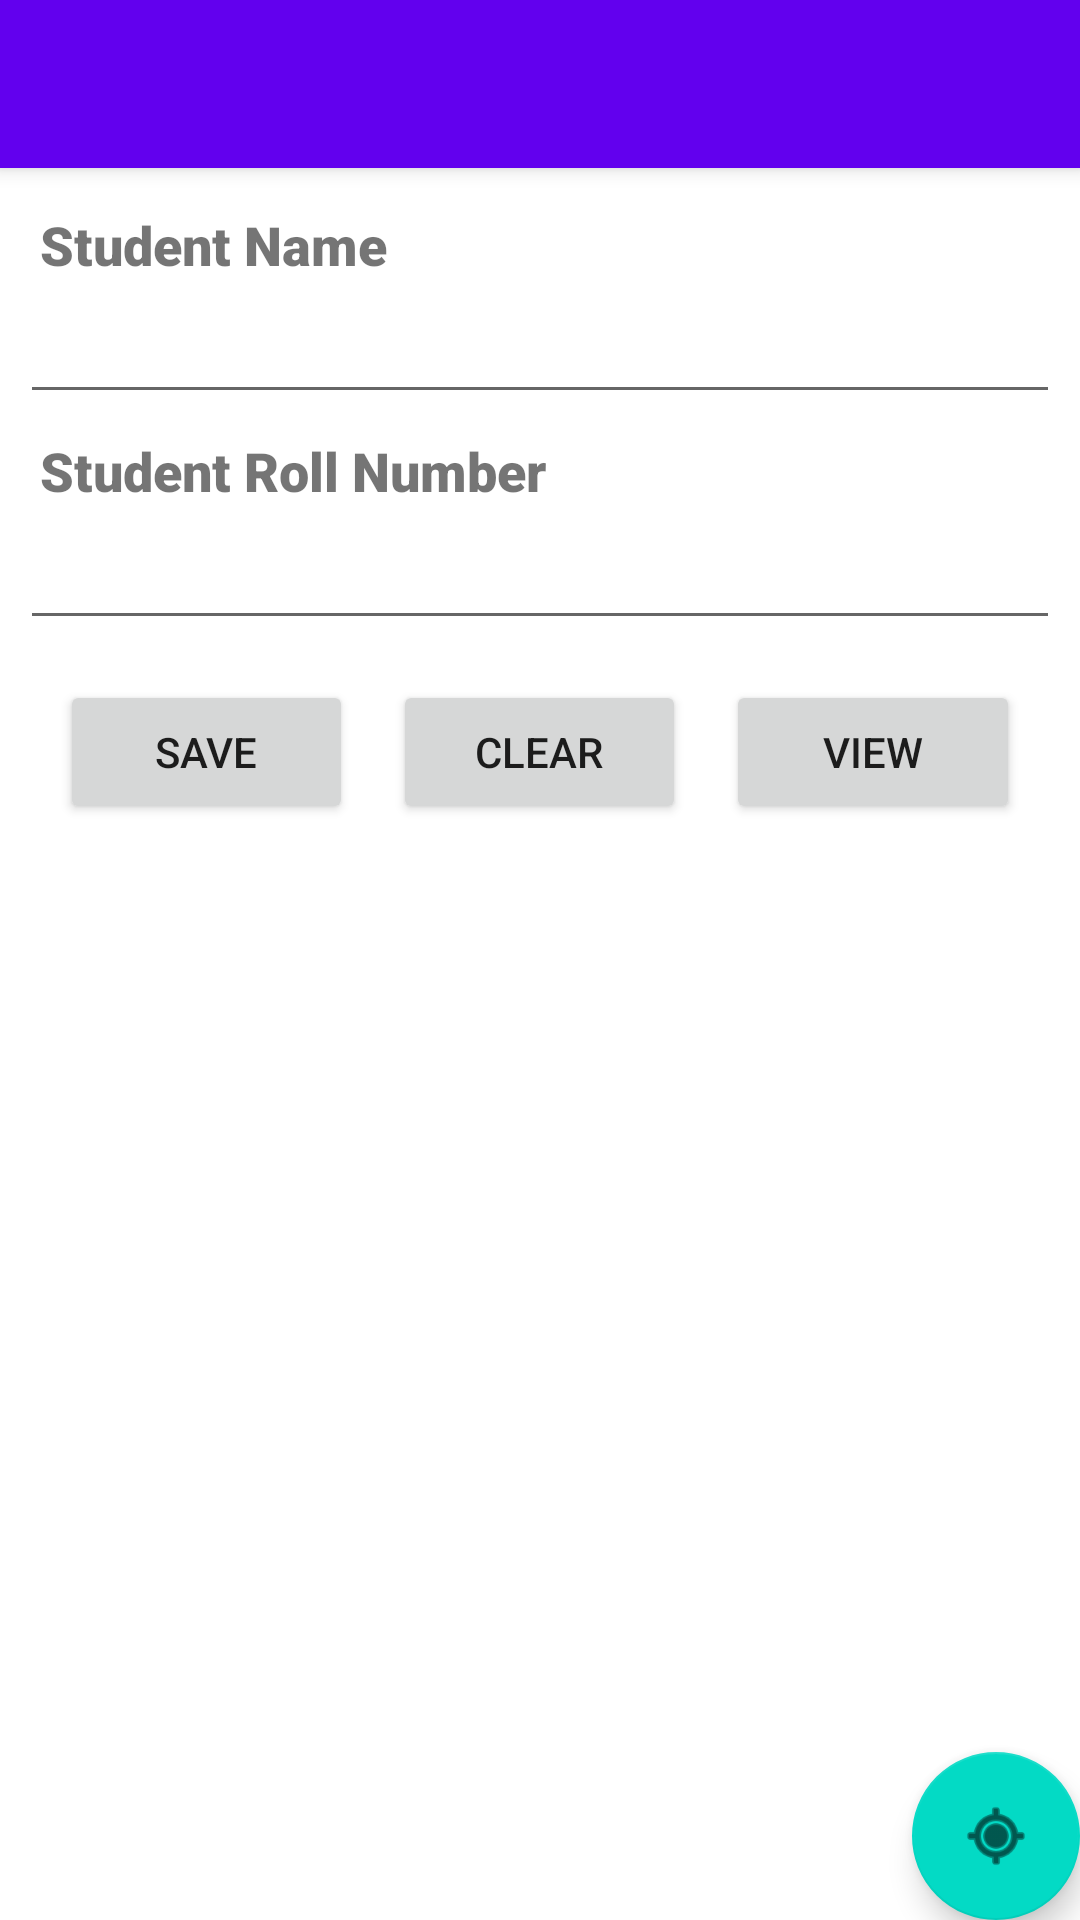

Named icons in this screenshot (1080w x 1920h) and their bounding boxes, (x1, y1, x2, y2):
mylocation: (912, 1752, 1080, 1920)
